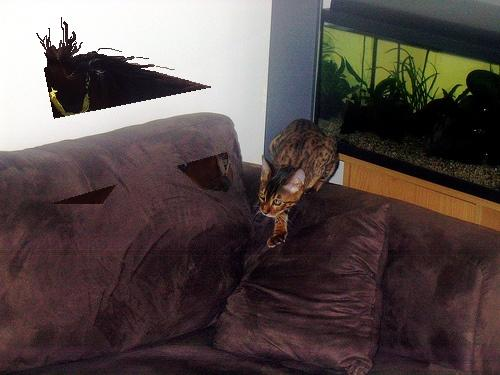tampered: (37, 18, 233, 204)
